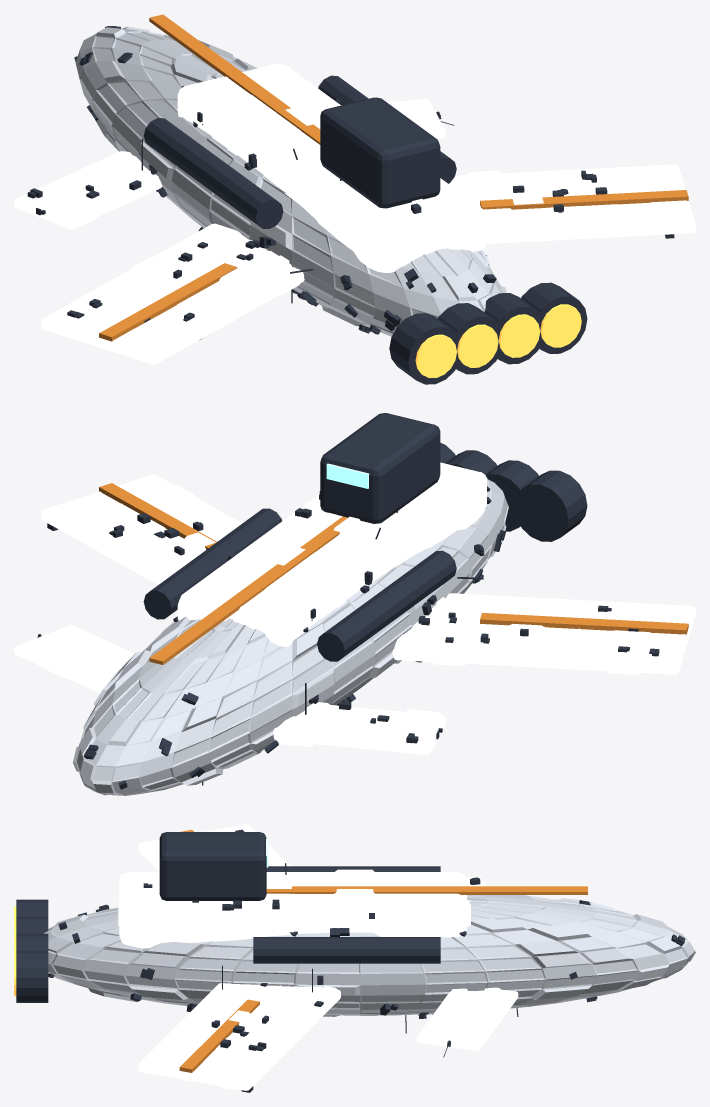
File: humans_large.glb
3 views of the same model, one above another, from view 1: azimuth 30°, elevation 25°; view 2: azimuth 150°, elevation 25°; view 3: azimuth 270°, elevation 25° (orthographic). The views are drawn at different scales.
Parts seen in each view (by area): view 1: humans_large; view 2: humans_large; view 3: humans_large.
Part boxes in pixels (x1=…): humans_large: x1=14, y1=14, x2=695, y2=384; humans_large: x1=14, y1=413, x2=695, y2=795; humans_large: x1=14, y1=824, x2=695, y2=1092.
Bounding box in the file's own units: 9.02 × 2.93 × 10.01.
